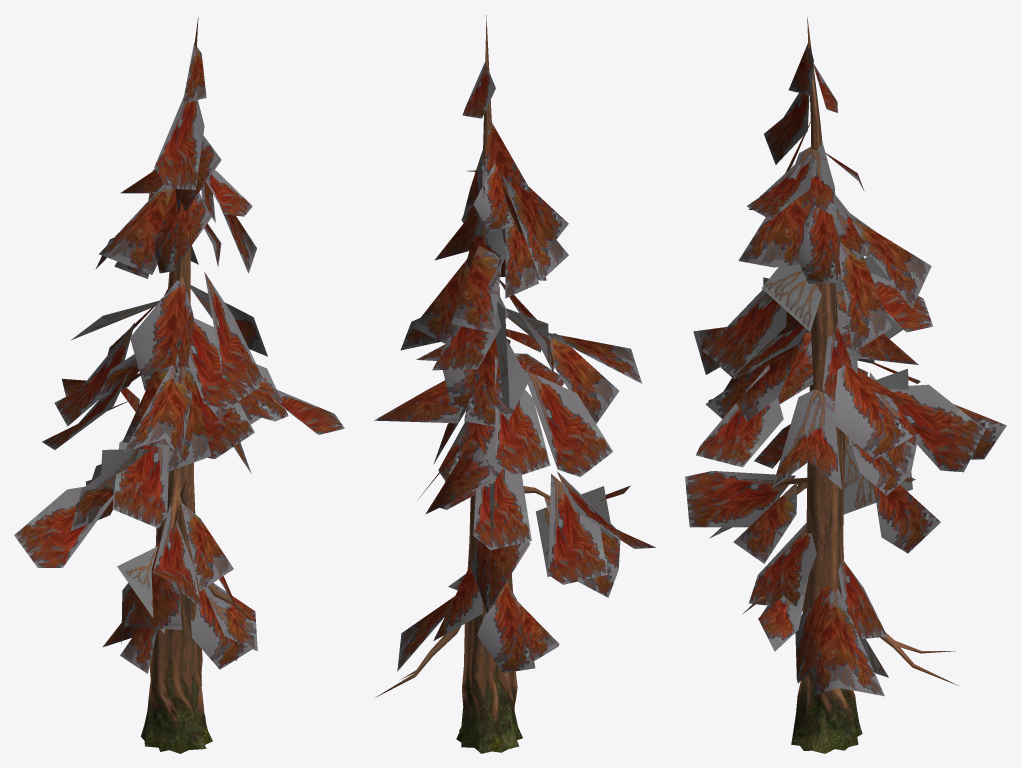
Rendered from redtree.glb.
3 renders of one model, left to right at view 1: azimuth 30°, elevation 25°; view 2: azimuth 150°, elevation 25°; view 3: azimuth 270°, elevation 25°, orthographic. The views are drawn at different scales.
Visible parts, largest first — view 1: grizzly_amberpinetree_Geoset1, grizzly_amberpinetree_Geoset0, grizzly_amberpinetree_Geoset2; view 2: grizzly_amberpinetree_Geoset1, grizzly_amberpinetree_Geoset0, grizzly_amberpinetree_Geoset2; view 3: grizzly_amberpinetree_Geoset1, grizzly_amberpinetree_Geoset0, grizzly_amberpinetree_Geoset2.
Boxes of the visible parts, x1,y1,x2,y2 form: grizzly_amberpinetree_Geoset1: (14, 43, 344, 673); grizzly_amberpinetree_Geoset0: (141, 17, 251, 753); grizzly_amberpinetree_Geoset2: (71, 245, 198, 633); grizzly_amberpinetree_Geoset1: (374, 62, 655, 672); grizzly_amberpinetree_Geoset0: (375, 15, 550, 753); grizzly_amberpinetree_Geoset2: (490, 302, 613, 576); grizzly_amberpinetree_Geoset1: (685, 43, 1006, 696); grizzly_amberpinetree_Geoset0: (742, 17, 958, 753); grizzly_amberpinetree_Geoset2: (709, 240, 912, 677).
Bounding box in the file's own units: 23.96 × 61.4 × 24.52.
3 materials, 3 textured.
